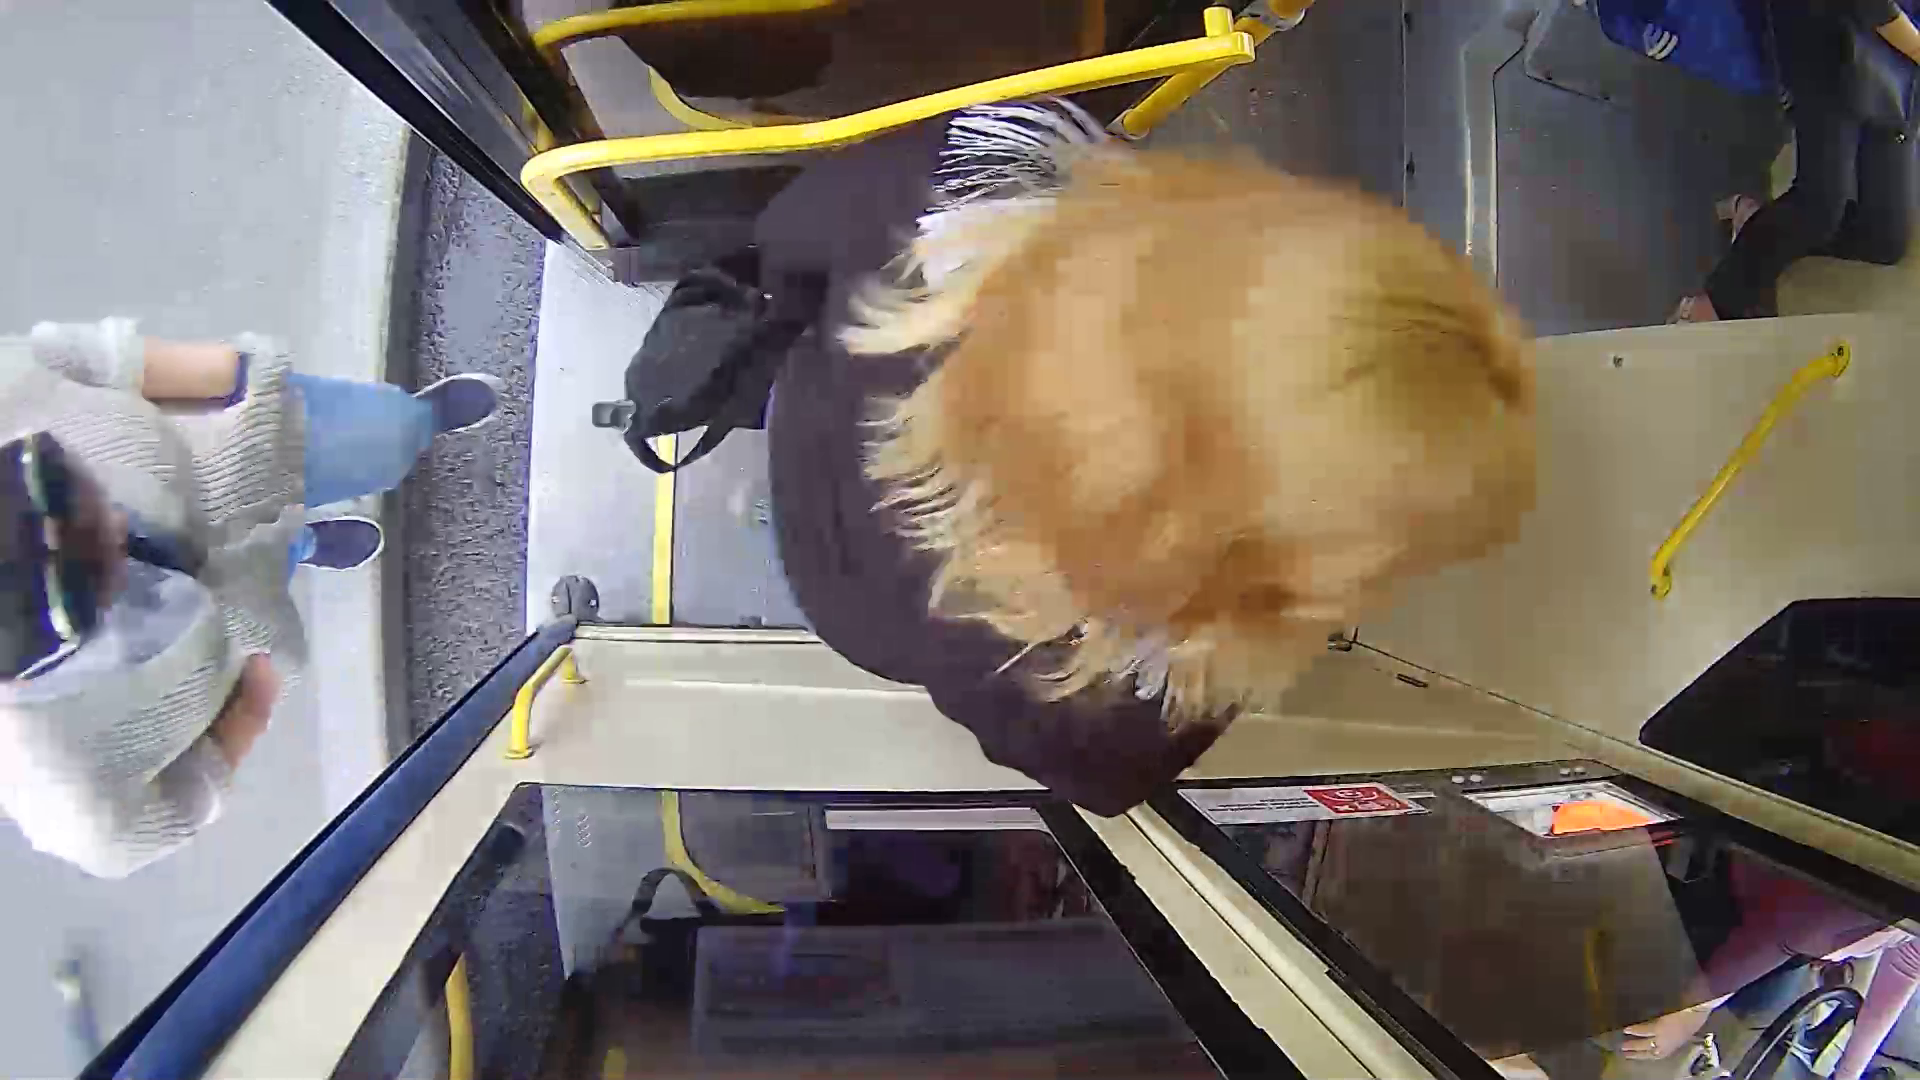person: (601, 120, 1642, 815)
